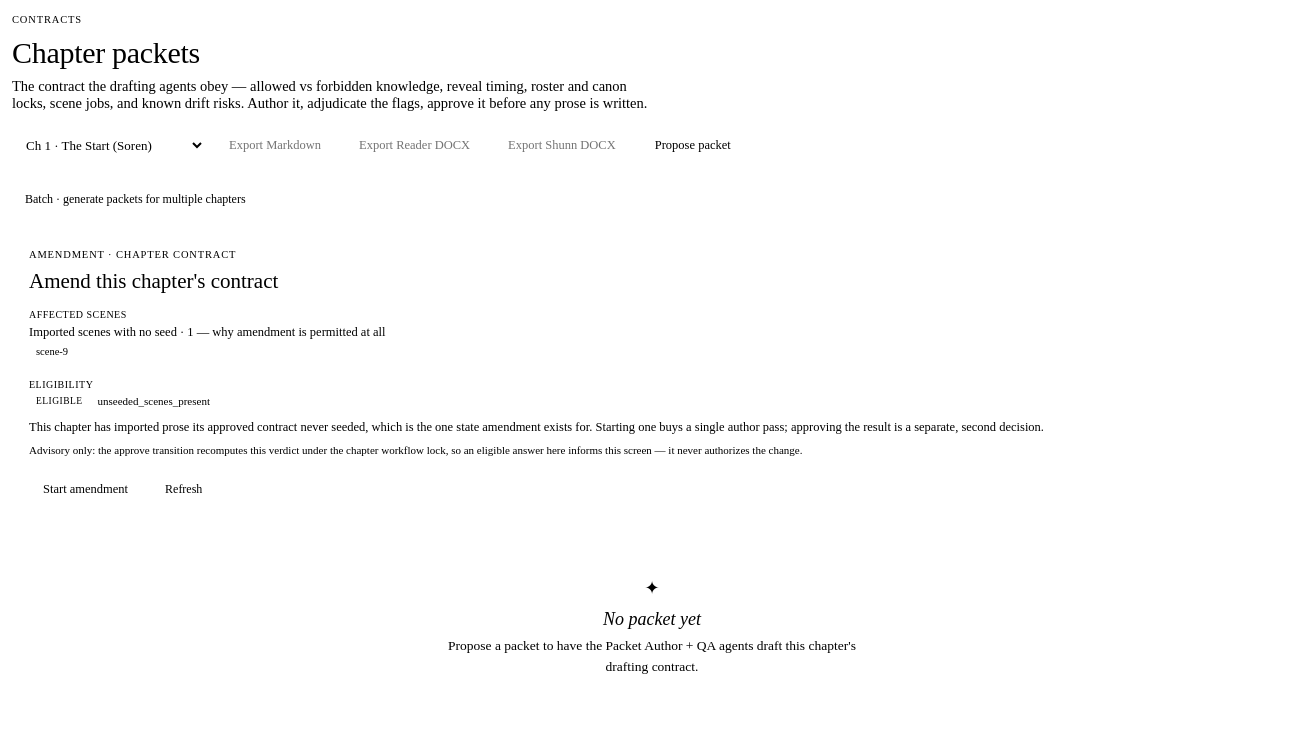
PacketsScreen amendment mode › fetches eligibility on chapter open and offers Start amendment when eligible
Click the button "Start amendment".
click(86, 489)  # box [29, 472, 142, 506]
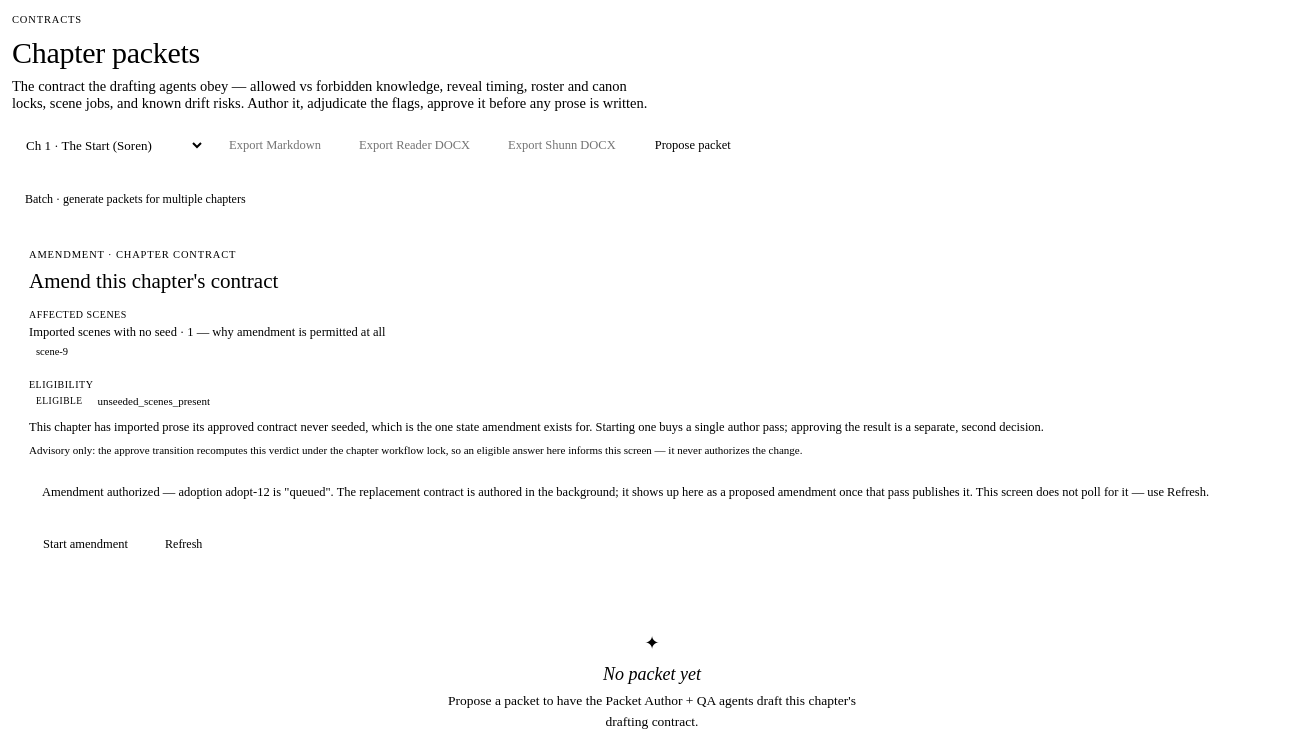
Check: the message with test id "amendment-notice" shows "adopt-12", box [42, 485, 1209, 499]
Check: the message with test id "amendment-notice" shows "queued", box [42, 485, 1209, 499]
Check: the message with test id "amendment-notice" shows "does not poll", box [42, 485, 1209, 499]
